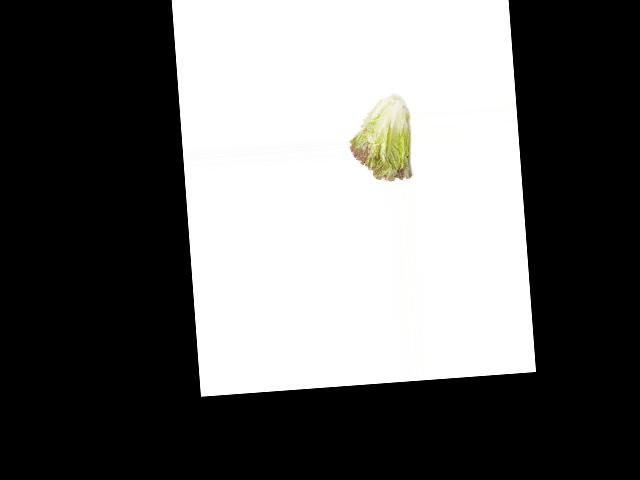lettuce: (347, 94, 413, 185)
